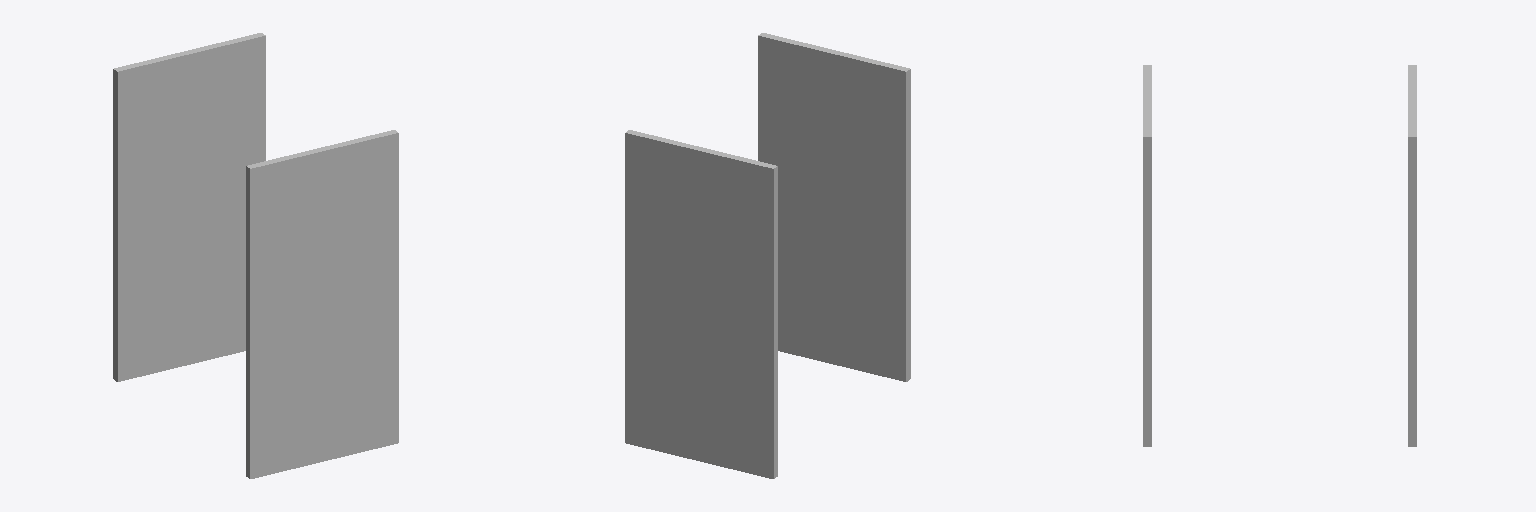
File: worldP1.obj
3 renders of one model, left to right at view 1: azimuth 30°, elevation 25°; view 2: azimuth 150°, elevation 25°; view 3: azimuth 270°, elevation 25°, orthographic.
Parts seen in each view (by area): view 1: Plane.007, Plane, Plane.006, Plane.001; view 2: Plane, Plane.007, Plane.001, Plane.006; view 3: Plane, Plane.007, Plane.001, Plane.006.
Boxes of the visible parts, <box> form: Plane.007: <box>246,130,398,323</box>; Plane: <box>113,33,265,226</box>; Plane.006: <box>246,288,398,478</box>; Plane.001: <box>113,196,245,381</box>; Plane: <box>625,130,777,323</box>; Plane.007: <box>758,33,910,226</box>; Plane.001: <box>625,288,777,478</box>; Plane.006: <box>778,196,910,381</box>; Plane: <box>1408,65,1416,291</box>; Plane.007: <box>1143,65,1151,291</box>; Plane.001: <box>1408,292,1416,446</box>; Plane.006: <box>1143,292,1151,446</box>.
Size of the model in its own units: 20 by 40 by 32.